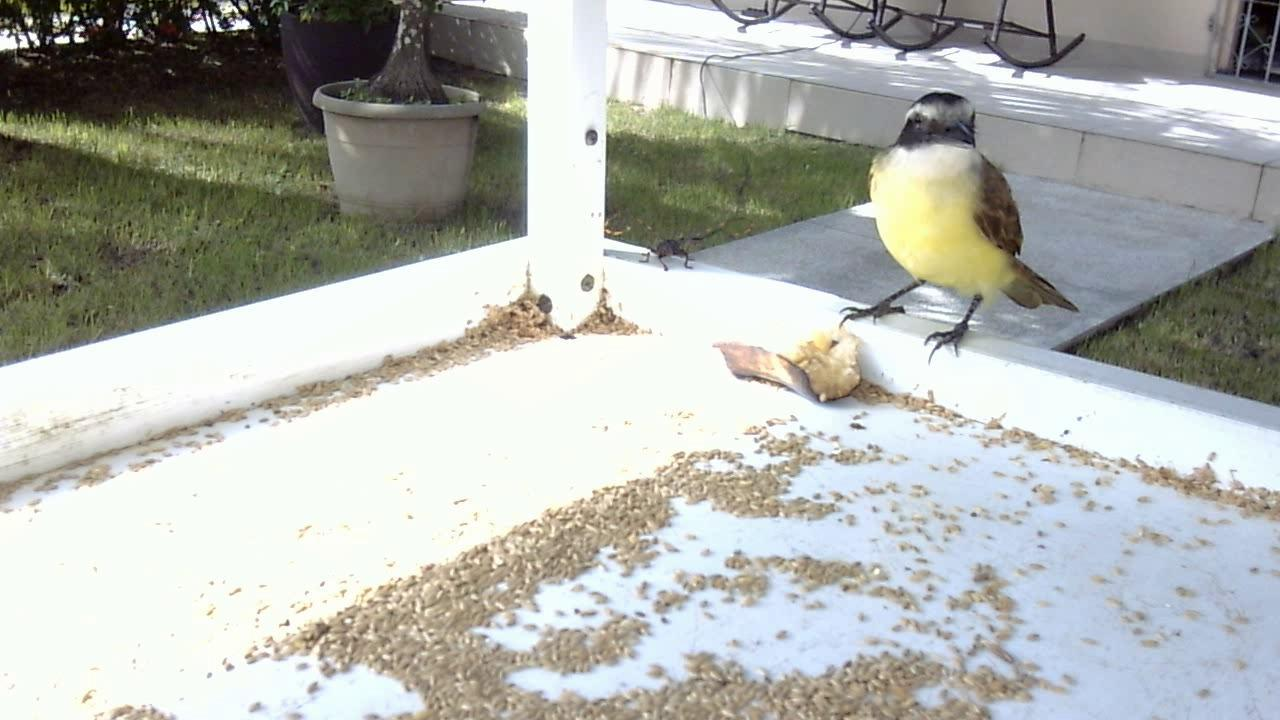bem_te_vi: (818, 81, 1086, 384)
